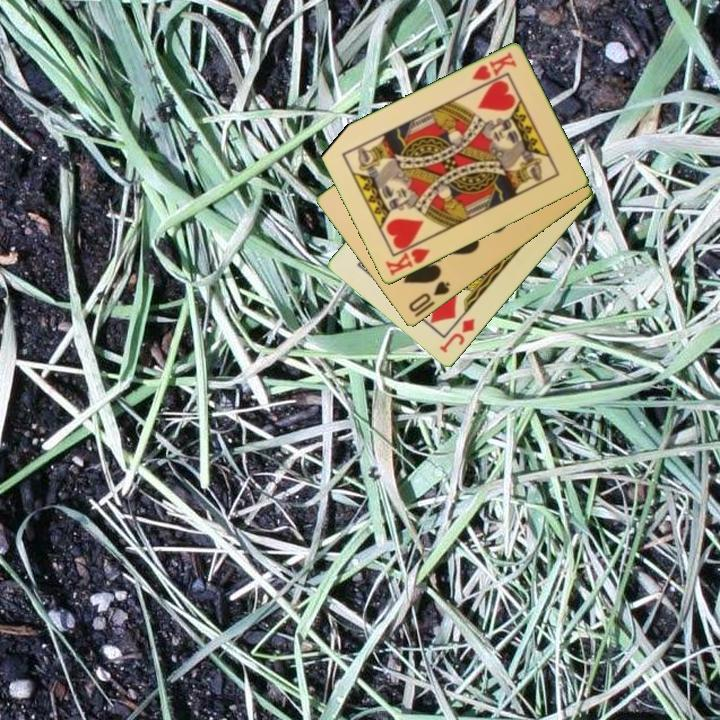10s: (405, 278, 453, 315)
Jd: (436, 315, 478, 356)
Kh: (382, 236, 433, 279), (468, 49, 519, 84)
